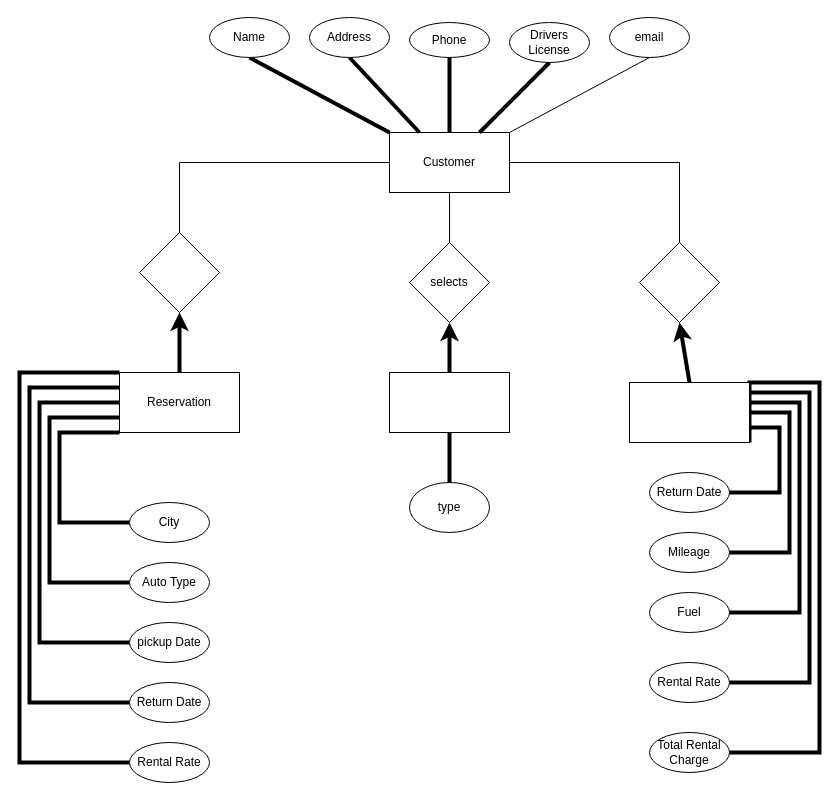
The diagram is 839 pixels wide and 800 high, and some of its shapes have lost their labels. The shapes that lost their labels are listed below. From the top down, each one's box as (x1, y1, x2, y2) in pixels, then its label:
(138, 232, 220, 312): books
(638, 242, 720, 322): finishes
(388, 372, 510, 432): Auto
(628, 382, 750, 442): Return
